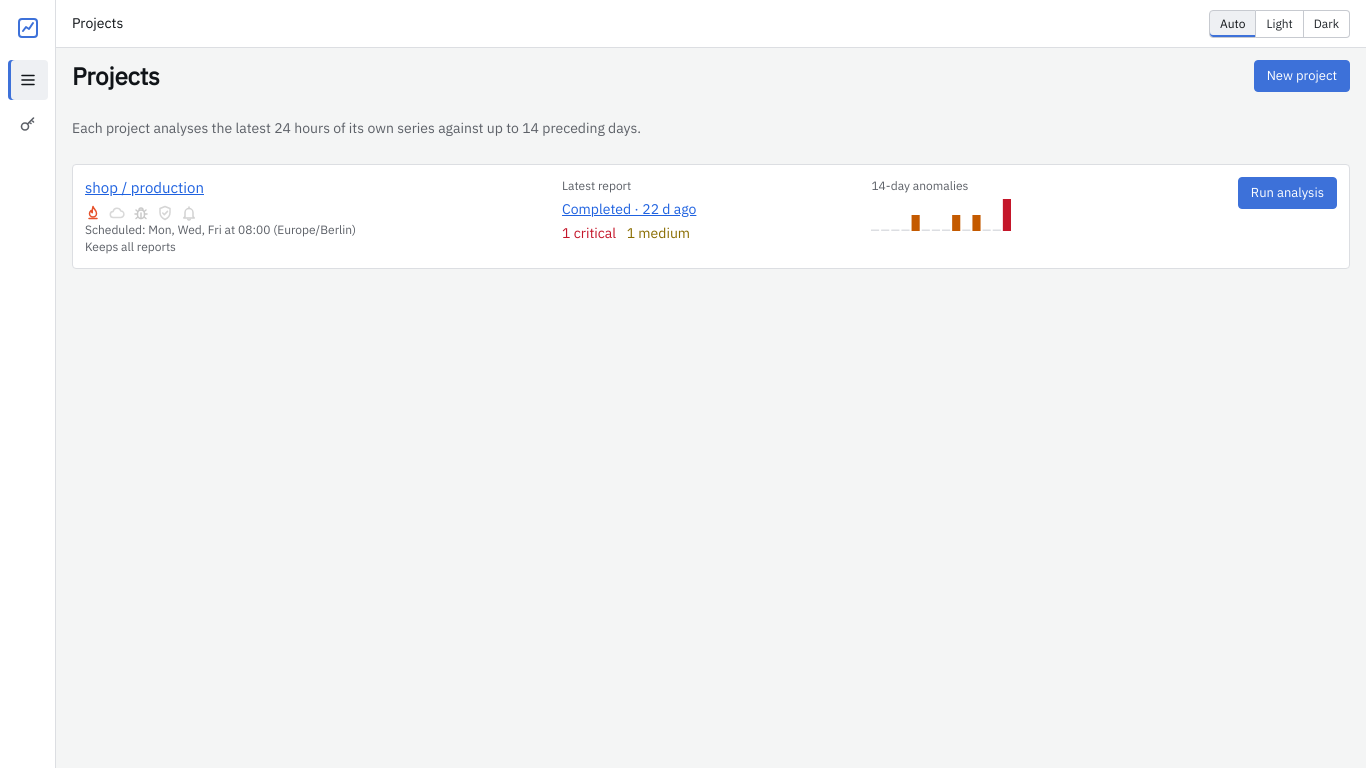
projects list › runs an analysis from the list and shows its progress inline
Click the button "Run analysis": x=1287, y=193 [1238,177,1337,209]
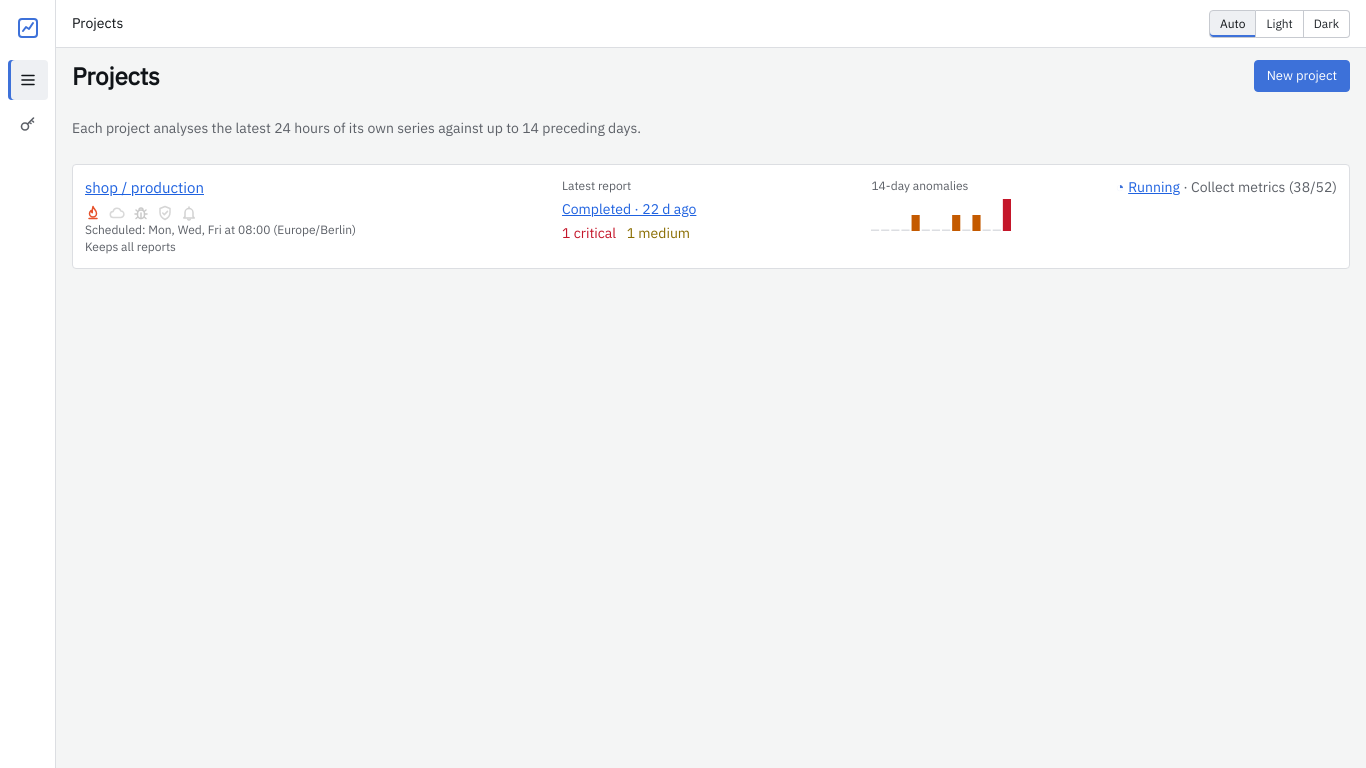
Expected: the text "· Collect metrics (38/52)" is shown, [1180,178,1337,196]
Expected: the button "Run analysis" is gone
